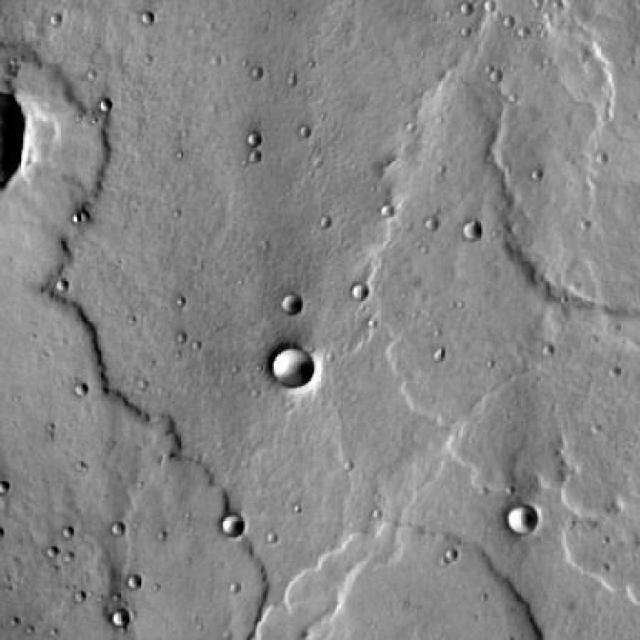crater: (264, 345, 304, 383), (501, 503, 532, 532), (213, 512, 238, 536), (273, 291, 293, 311), (105, 609, 124, 628), (460, 223, 478, 240), (107, 524, 124, 541)
